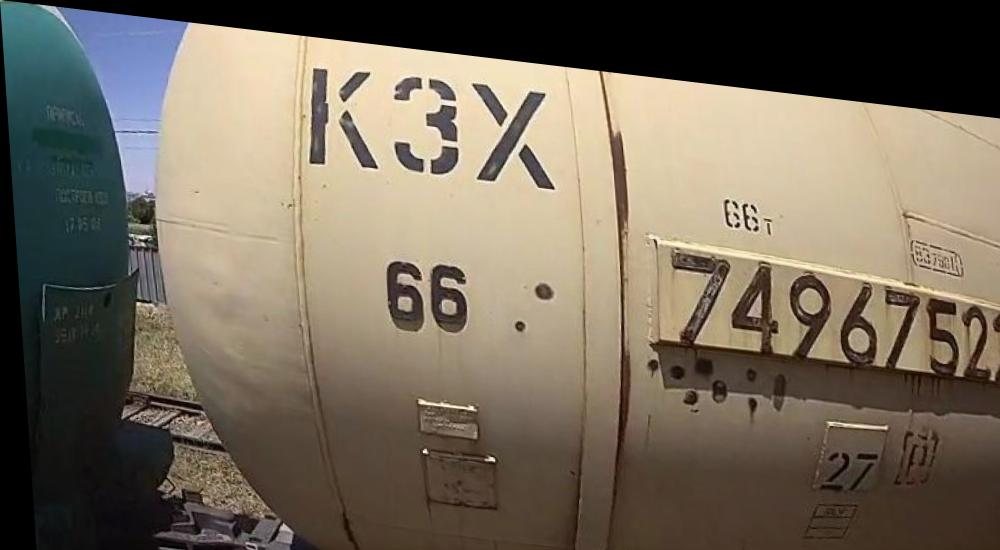Wagon-number: (657, 225, 1000, 364)
